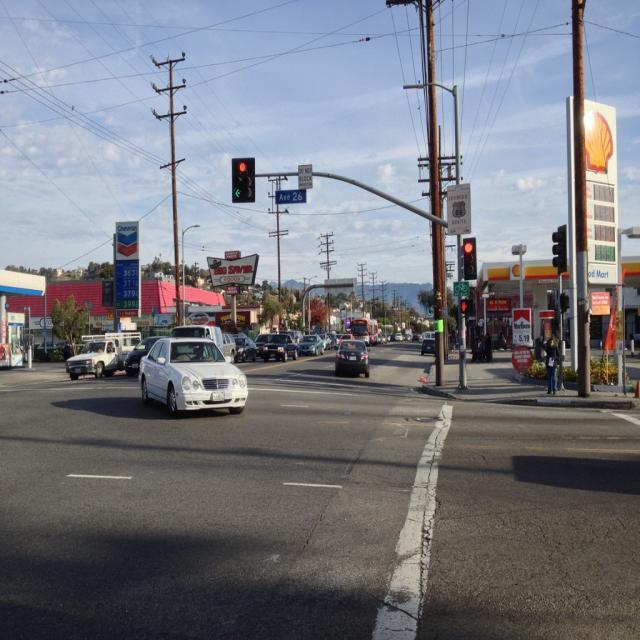off traffic light: (553, 228, 565, 269)
traffic light: (234, 158, 252, 203), (463, 237, 477, 278)
